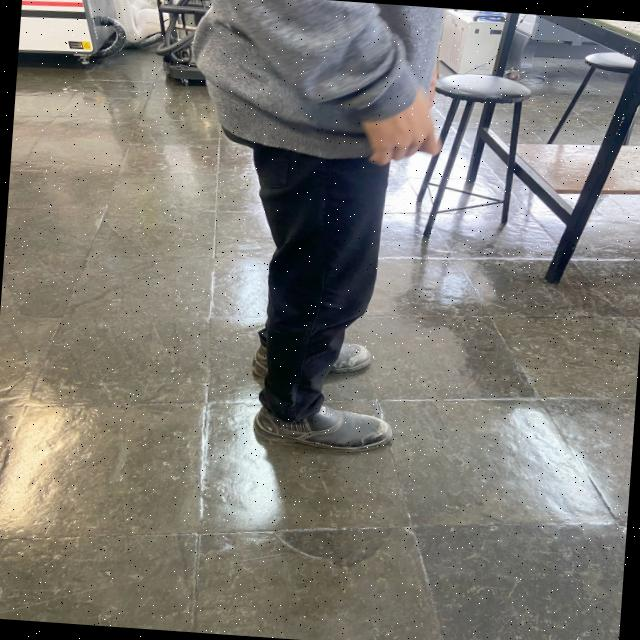BOTA: (249, 396, 395, 455), (246, 338, 373, 380)
SEM LUVA: (355, 81, 443, 165)
